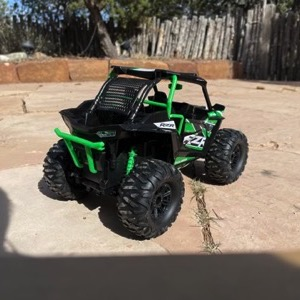polaris: (42, 63, 250, 240)
